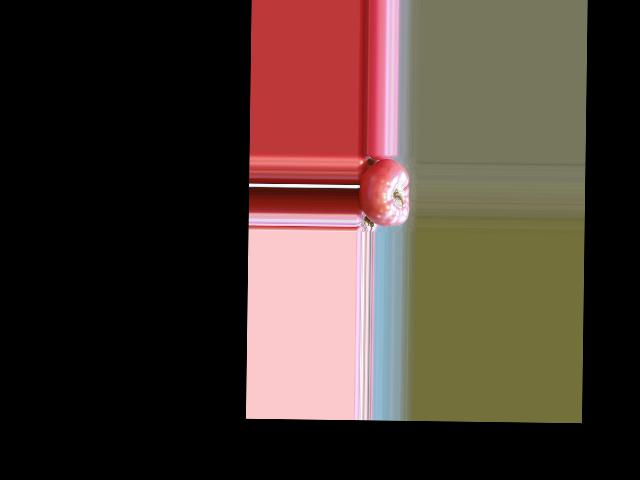tomato: (358, 157, 409, 226)
